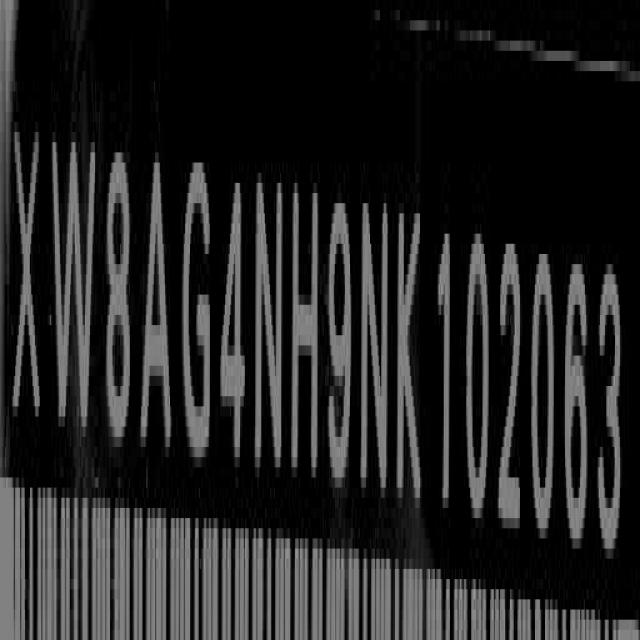0: (464, 224, 490, 532), (530, 240, 556, 544)
1: (434, 199, 456, 518)
2: (498, 235, 525, 538)
3: (599, 253, 625, 566)
4: (218, 155, 248, 478)
6: (561, 248, 590, 559)
8: (105, 146, 131, 462)
9: (328, 180, 353, 498)
A: (139, 141, 174, 464)
G: (180, 149, 212, 476)
H: (292, 162, 320, 489)
K: (396, 192, 424, 523)
N: (359, 182, 391, 506), (256, 156, 286, 478)
W: (52, 122, 96, 449)
X: (14, 109, 43, 438)
